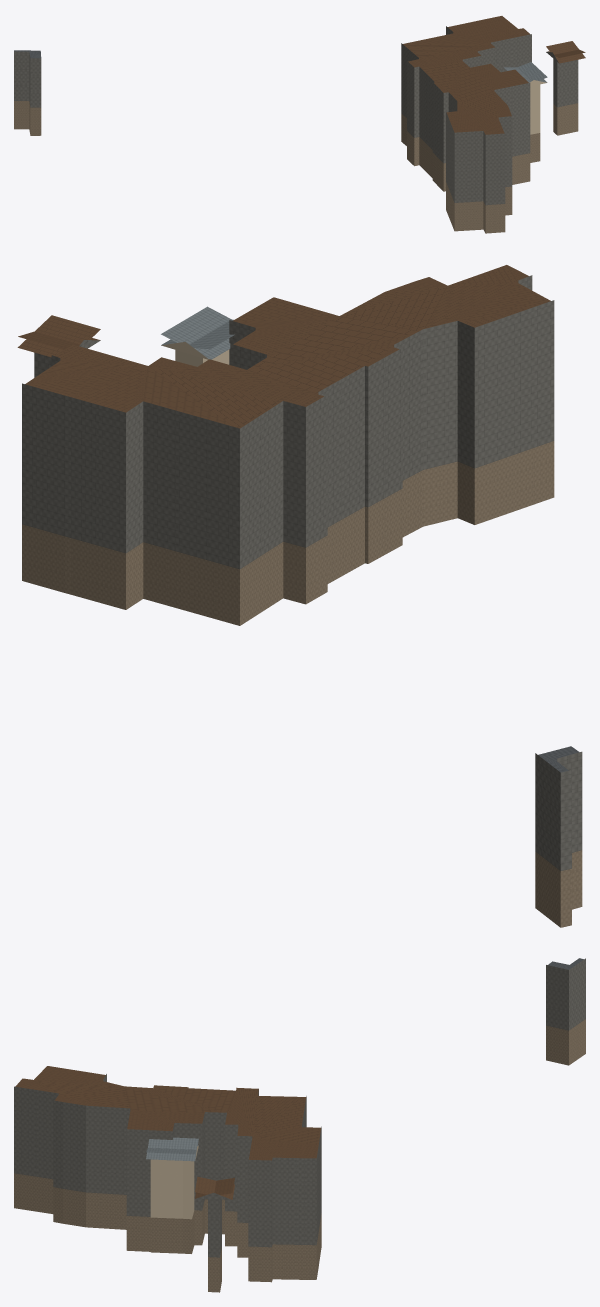
File: bld_c-1_-1_540.gltf
3 views of the same model, one above another, from view 1: azimuth 30°, elevation 25°; view 2: azimuth 150°, elevation 25°; view 3: azimuth 270°, elevation 25° (orthographic). The views are drawn at different scales.
Parts seen in each view (by area): view 1: bld_c-1_-1_540; view 2: bld_c-1_-1_540; view 3: bld_c-1_-1_540.
Boxes of the visible parts, x1=… form: bld_c-1_-1_540: x1=14, y1=16, x2=585, y2=233; bld_c-1_-1_540: x1=17, y1=265, x2=582, y2=927; bld_c-1_-1_540: x1=14, y1=958, x2=585, y2=1292.
Size of the model in its own units: 78.75 by 17.98 by 75.75.
8 materials, 8 textured.
